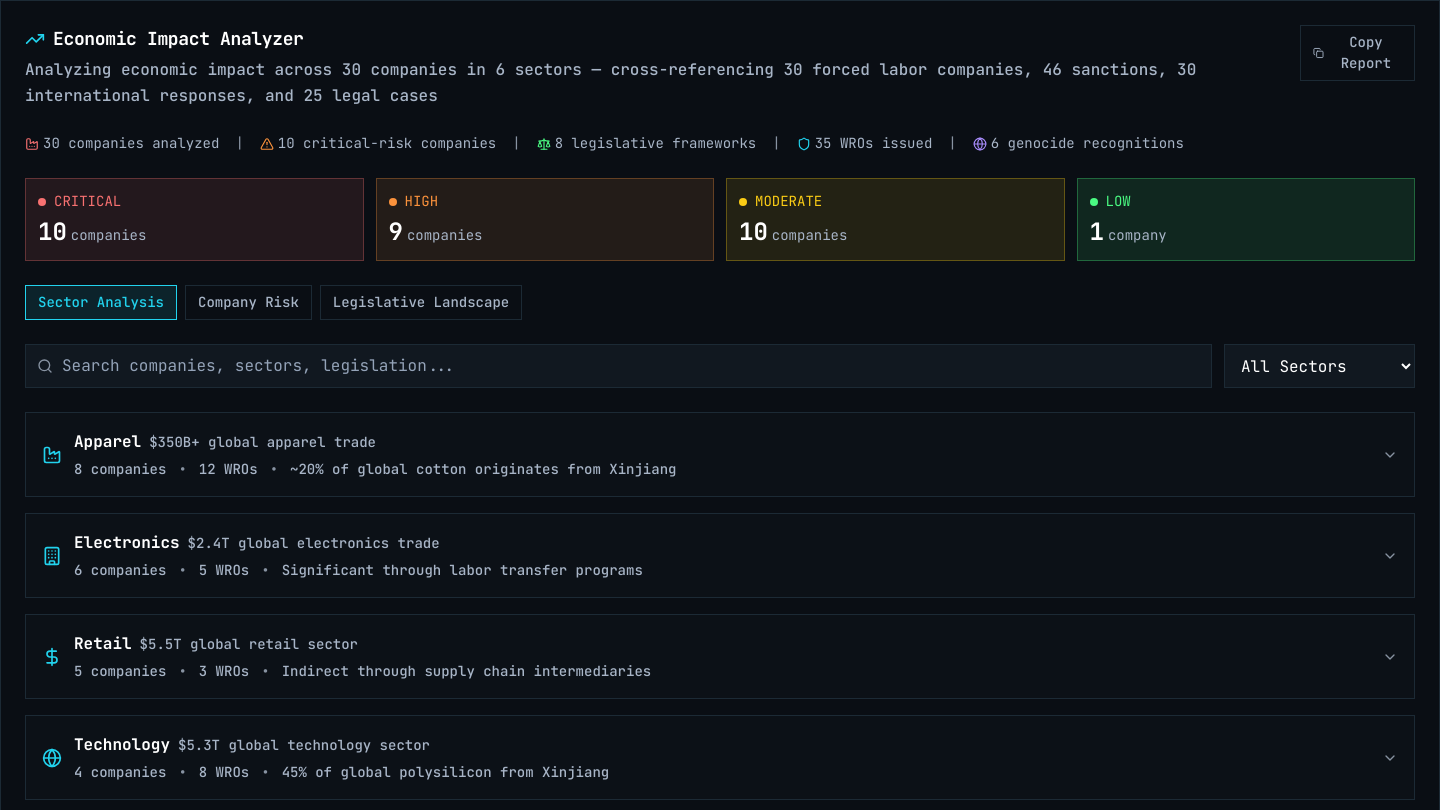
Scenario: EconomicImpactAnalyzer › search filters legislative results
The width and height of the screenshot is (1440, 810).
Step 1. Type "xyznonexistent123" into the field with placeholder "Search companies, sectors, legislation..." → [618, 366], box top-left (25, 344), bottom-right (1212, 388)
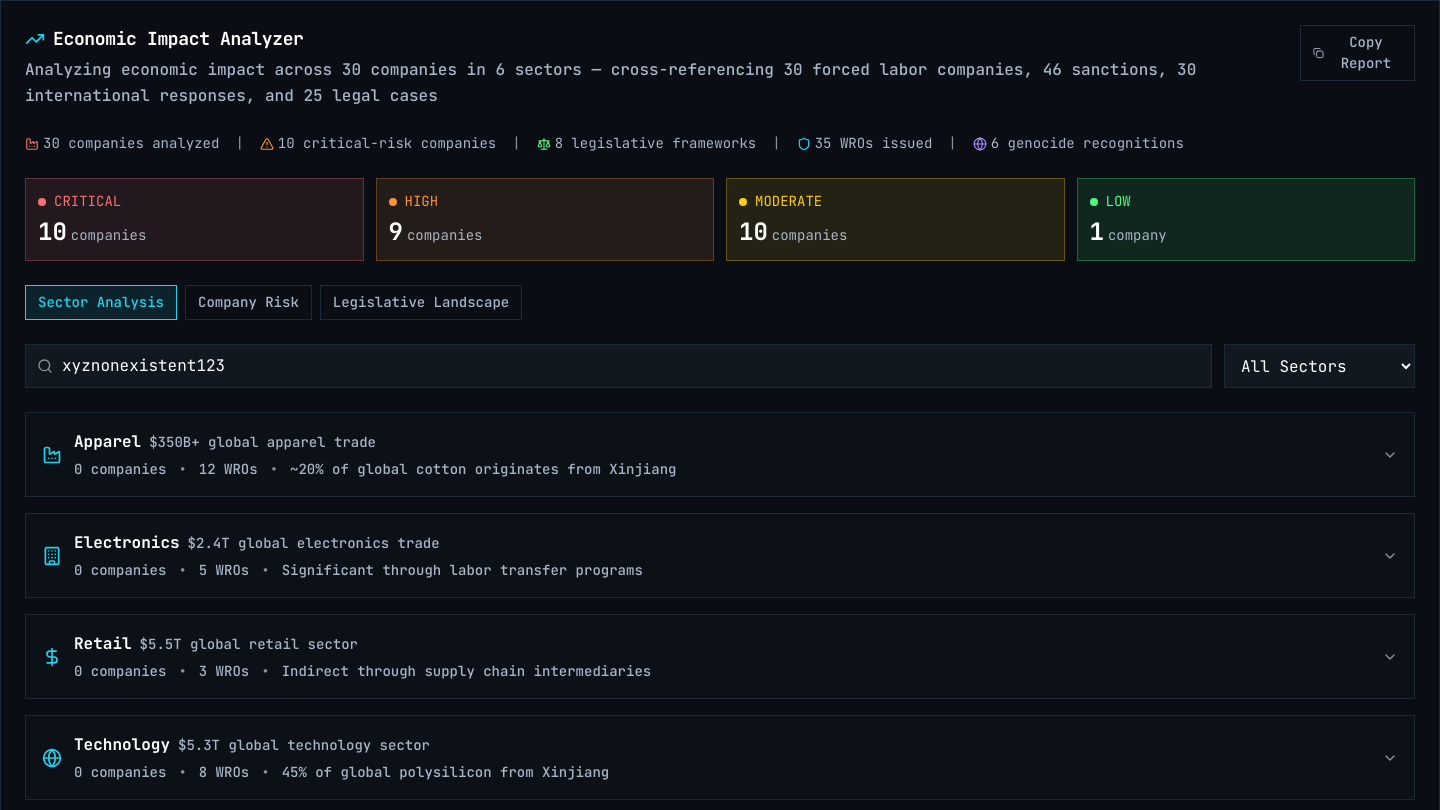
Step 2. Click the button "Legislative Landscape" → [421, 303], box top-left (320, 285), bottom-right (522, 320)
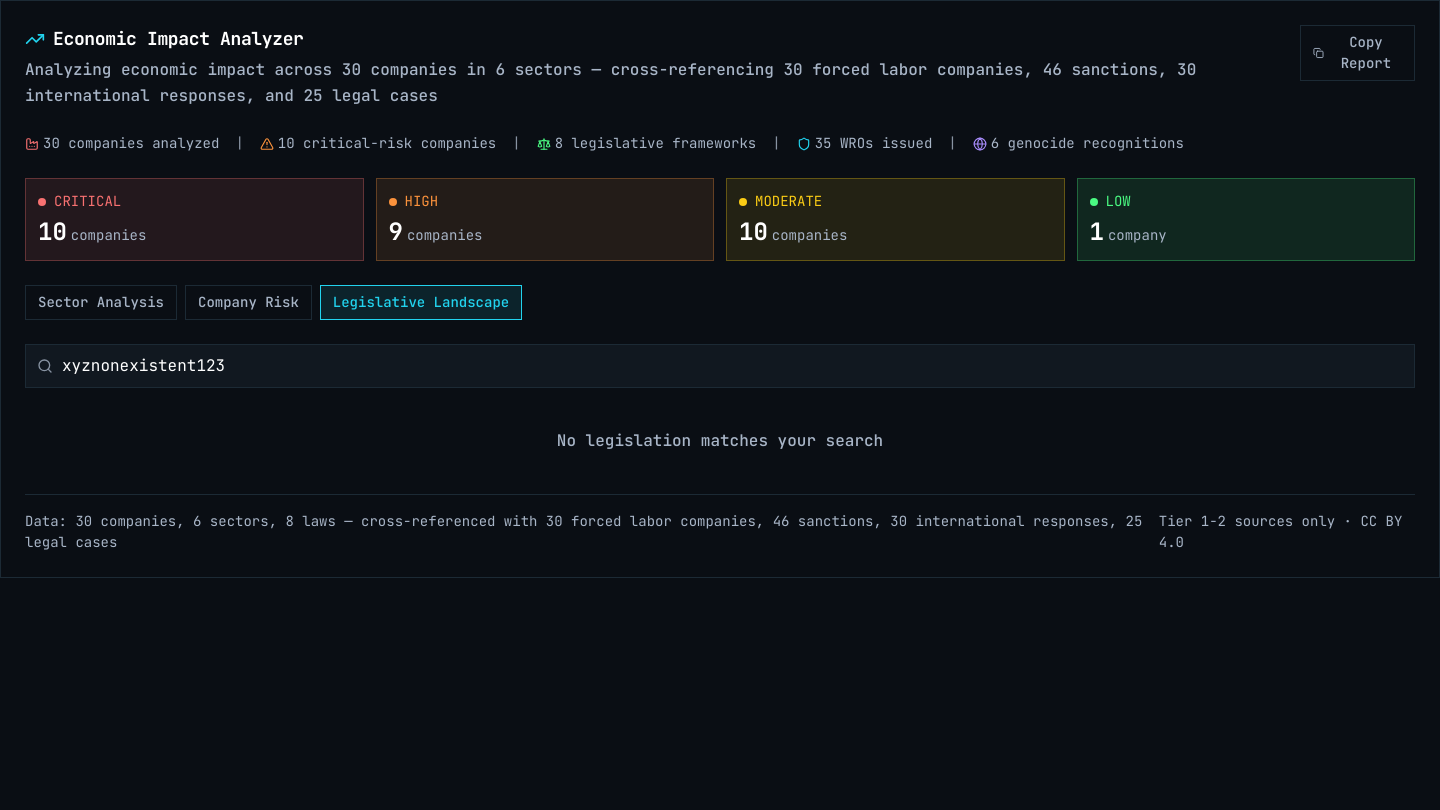
Expected: the text "No legislation matches your search" is shown, top-left (557, 430), bottom-right (883, 451)
